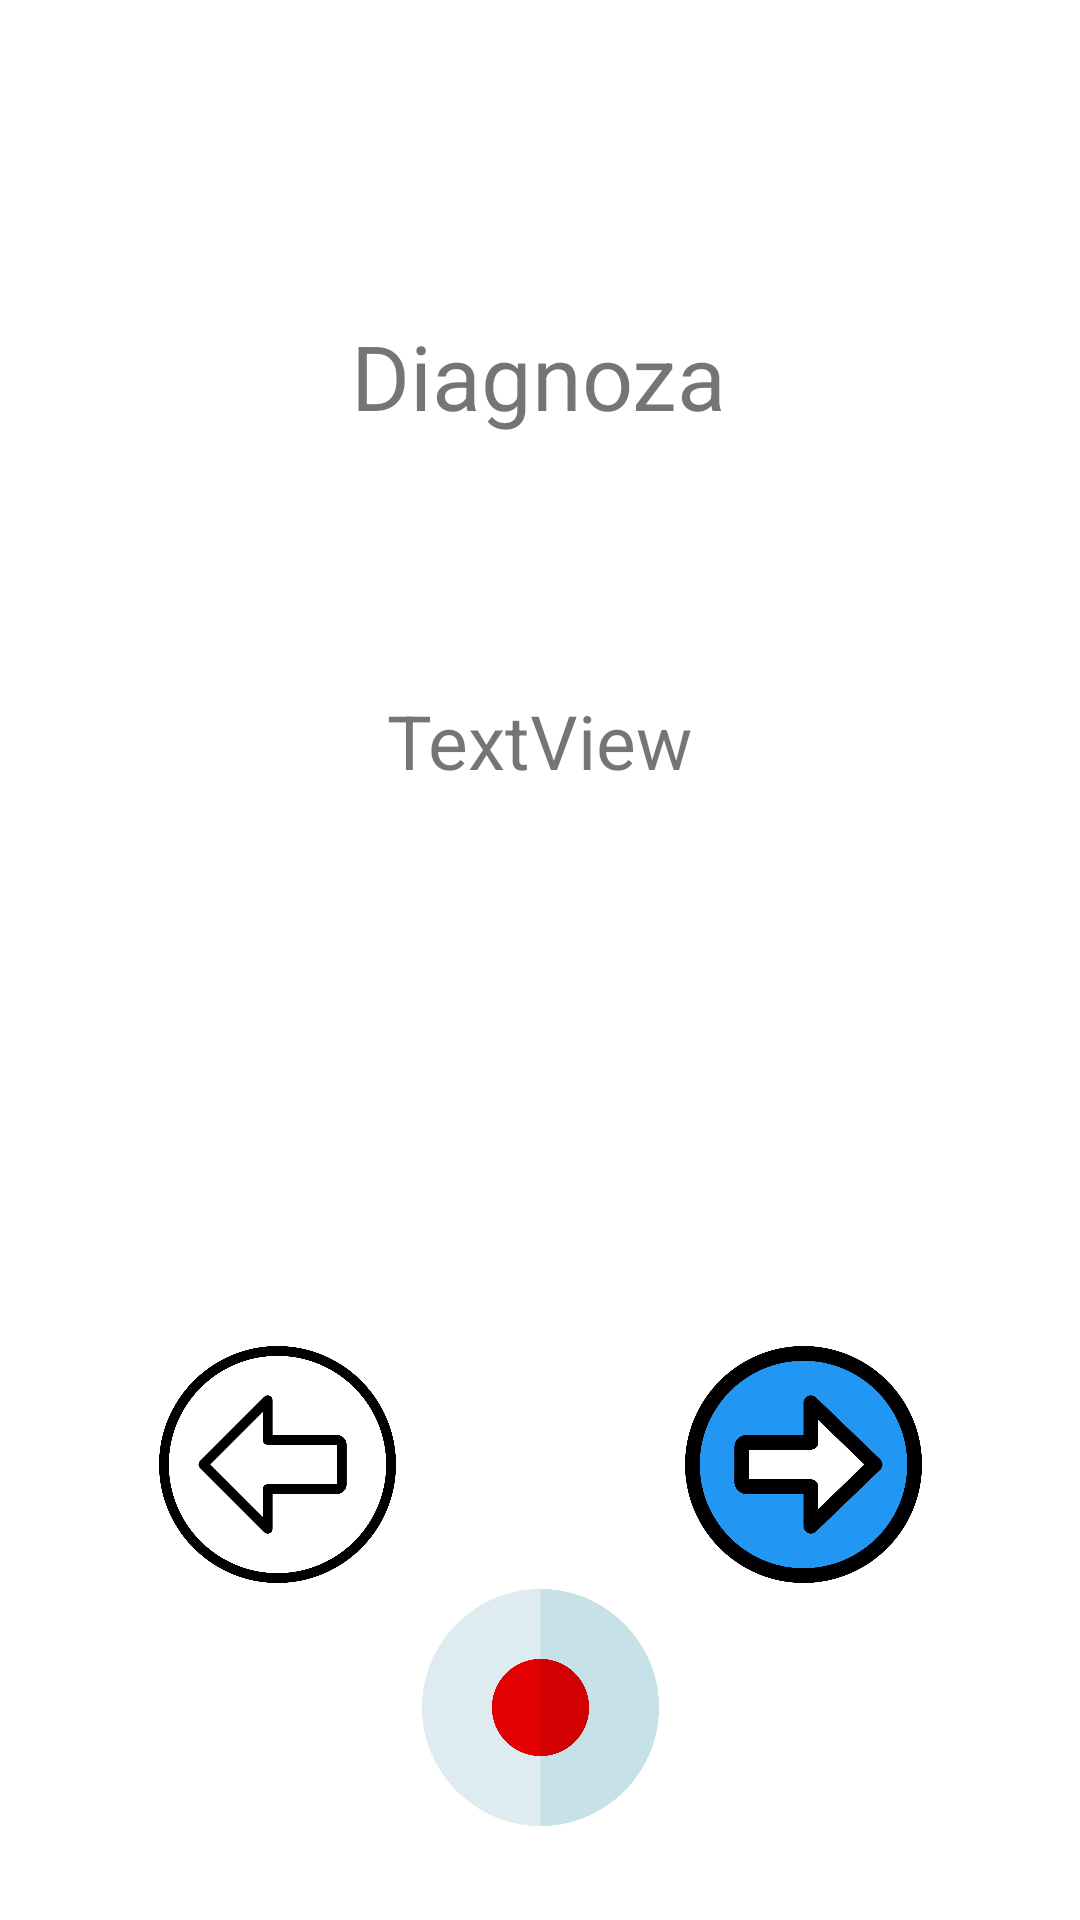

Icons on this 1080 x 1920 Android screen, each with its box as box=[x1, y1, x2, y2]:
next: box=[685, 1346, 922, 1583]
previous: box=[159, 1346, 396, 1583]
record: box=[422, 1589, 659, 1826]
